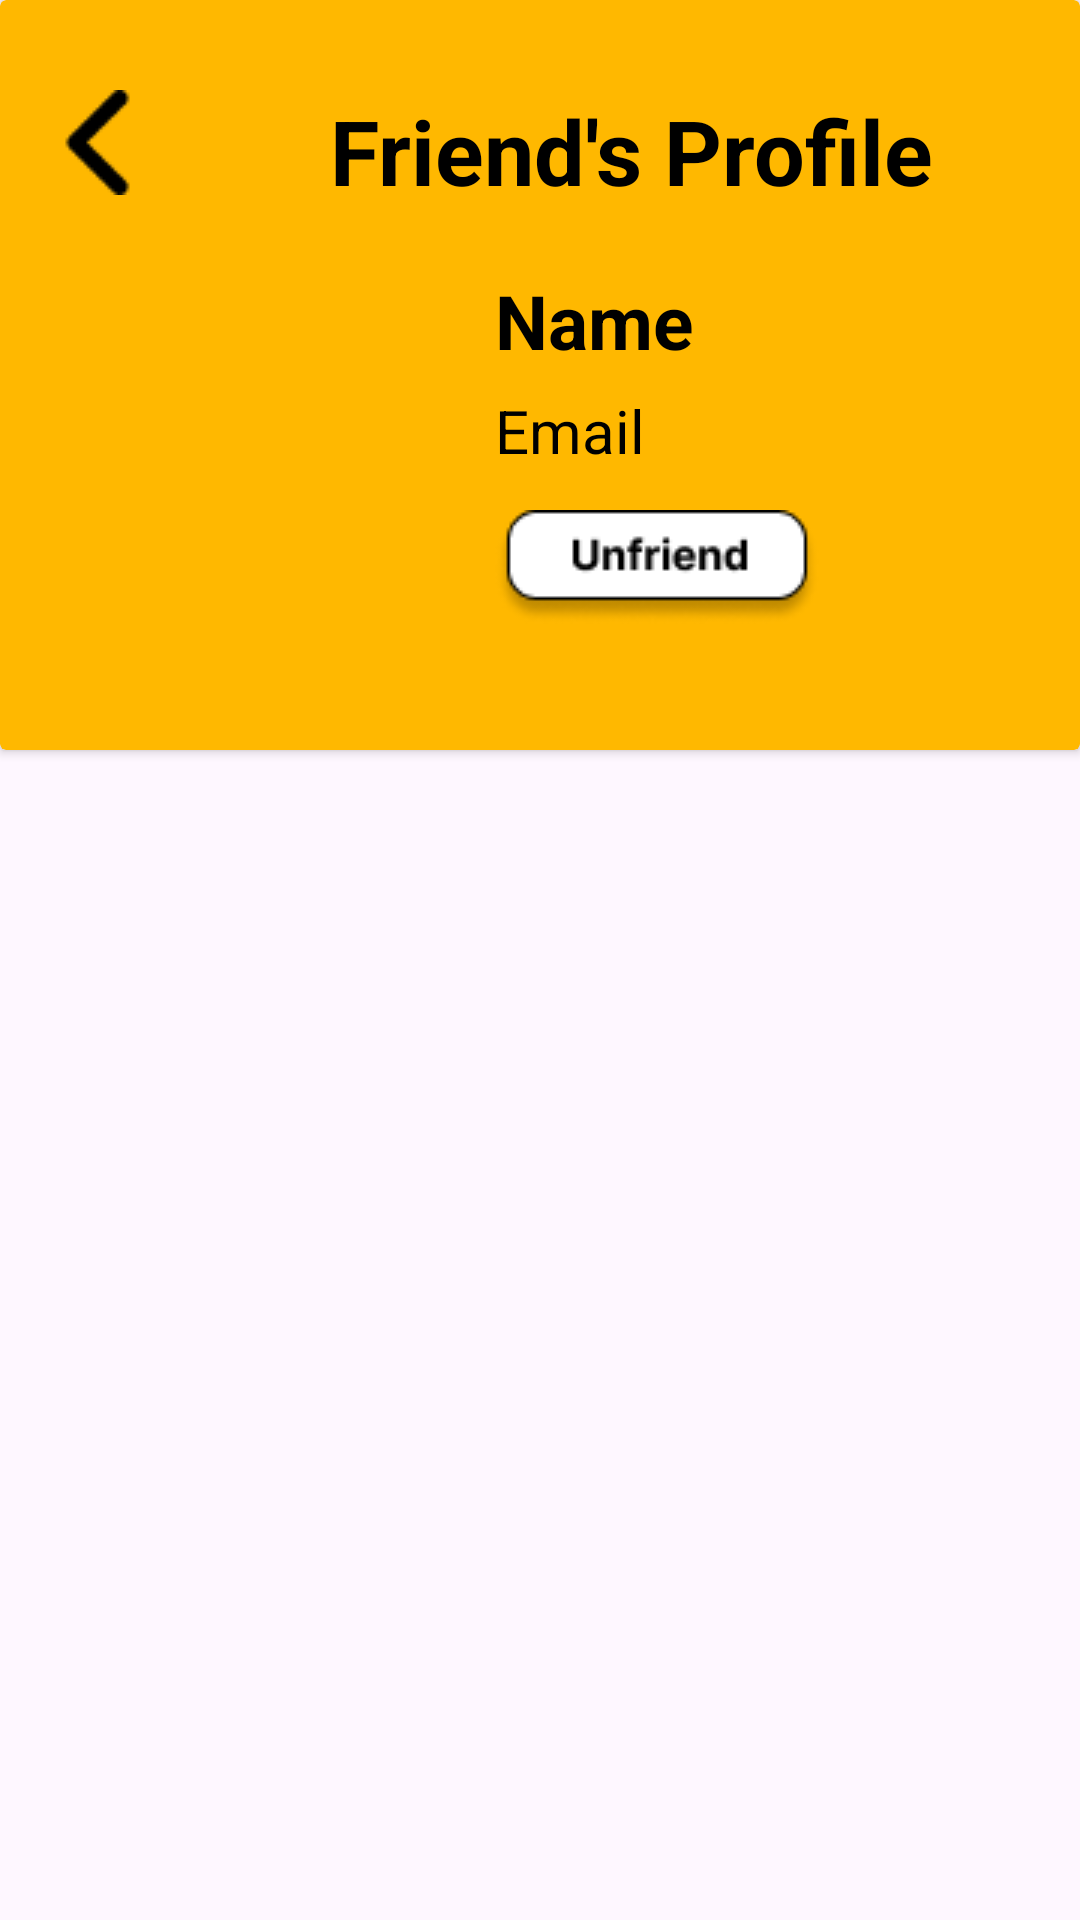

Screen size 1080w x 1920h. Icon name, then its box in pixels as [x1, y1, x2, y2]:
backicon: [65, 90, 130, 195]
